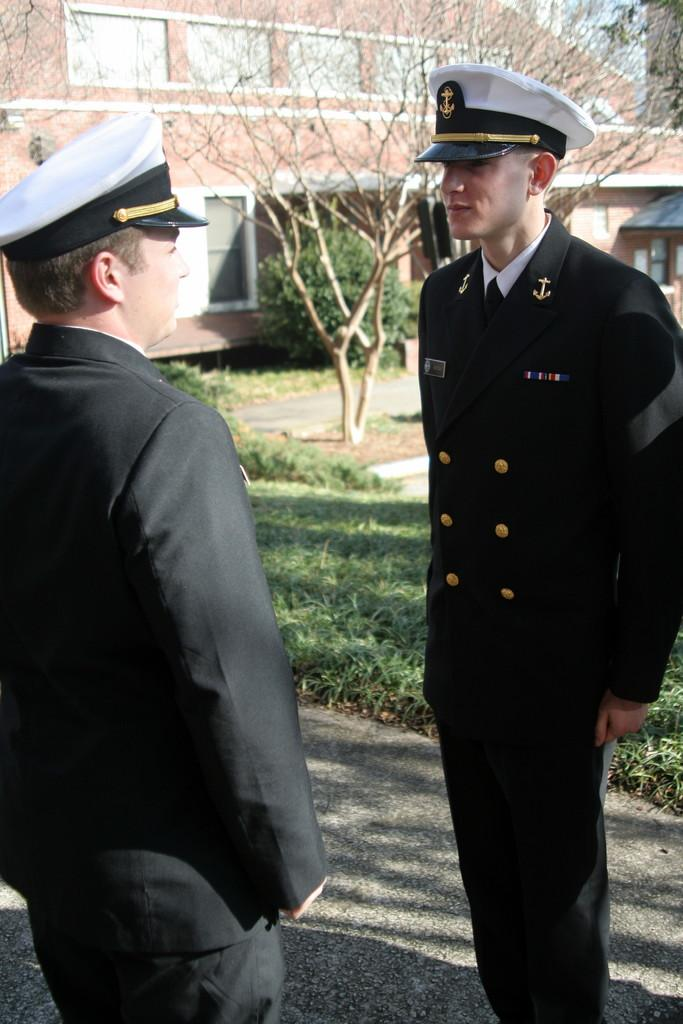Hat: (0, 110, 209, 266), (406, 60, 602, 166)
